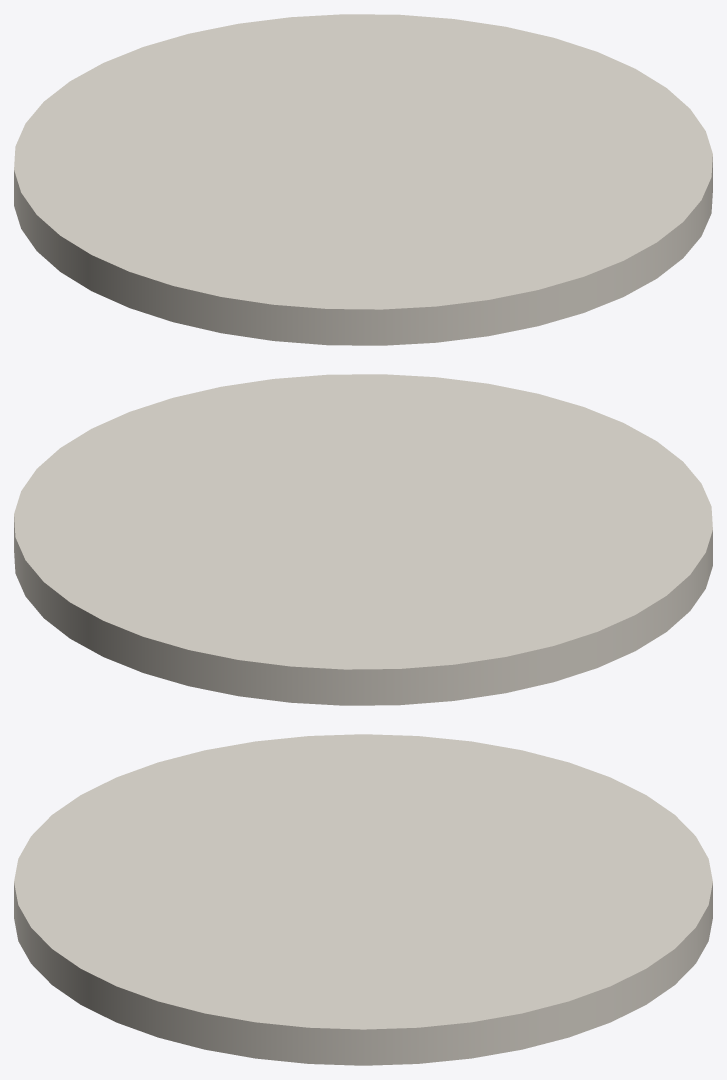
File: pad-socle.glb
3 views of the same model, one above another, from view 1: azimuth 30°, elevation 25°; view 2: azimuth 150°, elevation 25°; view 3: azimuth 270°, elevation 25° (orthographic).
Parts seen in each view (by area): view 1: plat; view 2: plat; view 3: plat.
Boxes of the visible parts, x1,y1,x2,y2 form: plat: (14, 14, 712, 345); plat: (14, 374, 712, 705); plat: (14, 734, 712, 1065).
Size of the model in its own units: 1.4 by 0.08 by 1.4.
Materials: 1 (1 with a texture image).
